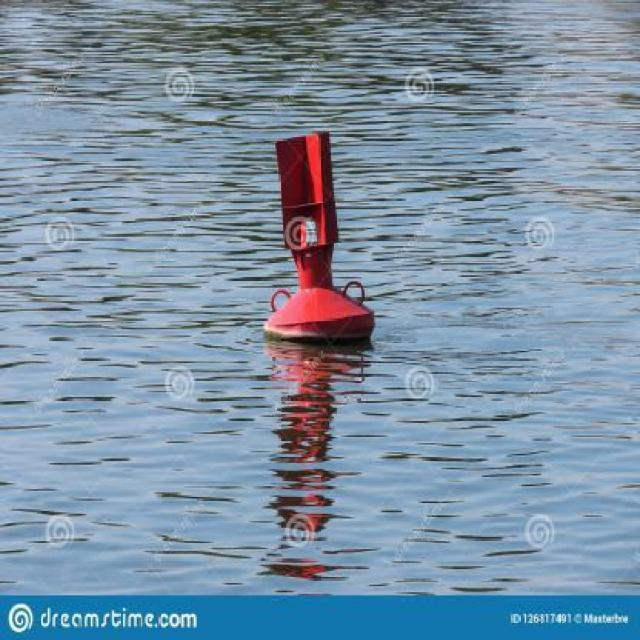Red Buoy: (266, 138, 372, 337)
